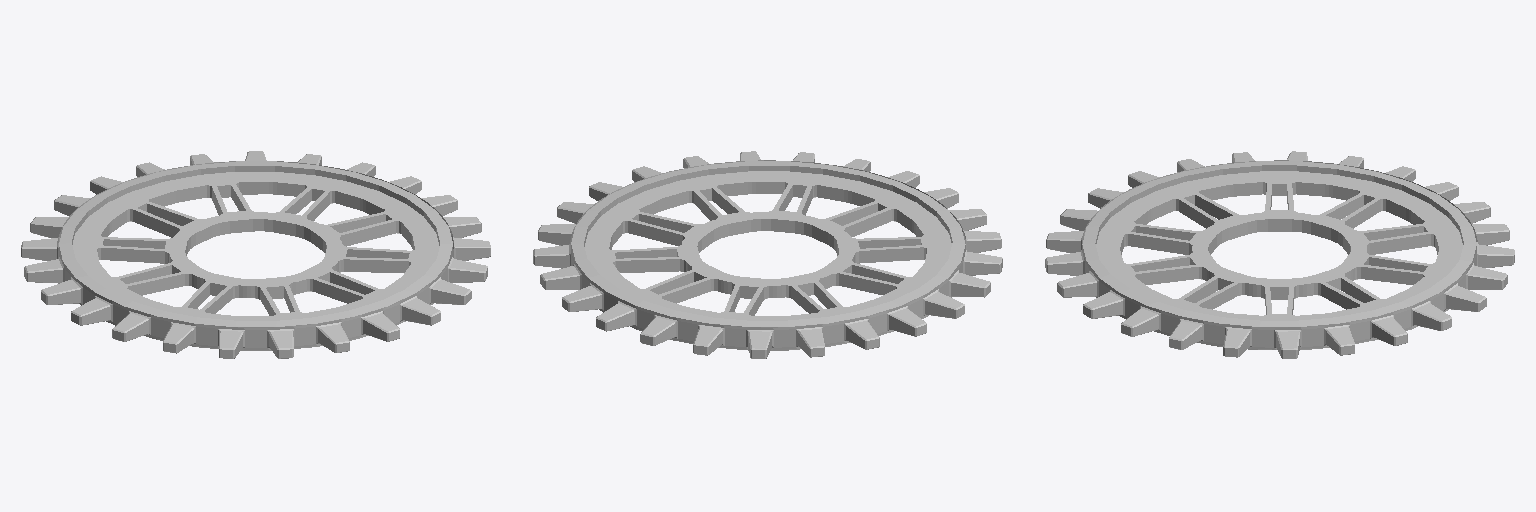
Rendered from GEARBEAMS.obj.
3 renders of one model, left to right at view 1: azimuth 30°, elevation 25°; view 2: azimuth 150°, elevation 25°; view 3: azimuth 270°, elevation 25°, orthographic.
Parts seen in each view (by area): view 1: GEARBEAMS; view 2: GEARBEAMS; view 3: GEARBEAMS.
Boxes of the visible parts, x1,y1,x2,y2 form: GEARBEAMS: [21, 151, 490, 358]; GEARBEAMS: [533, 151, 1002, 358]; GEARBEAMS: [1045, 151, 1514, 358].
Size of the model in its own units: 6.38 by 0.3843 by 6.37.